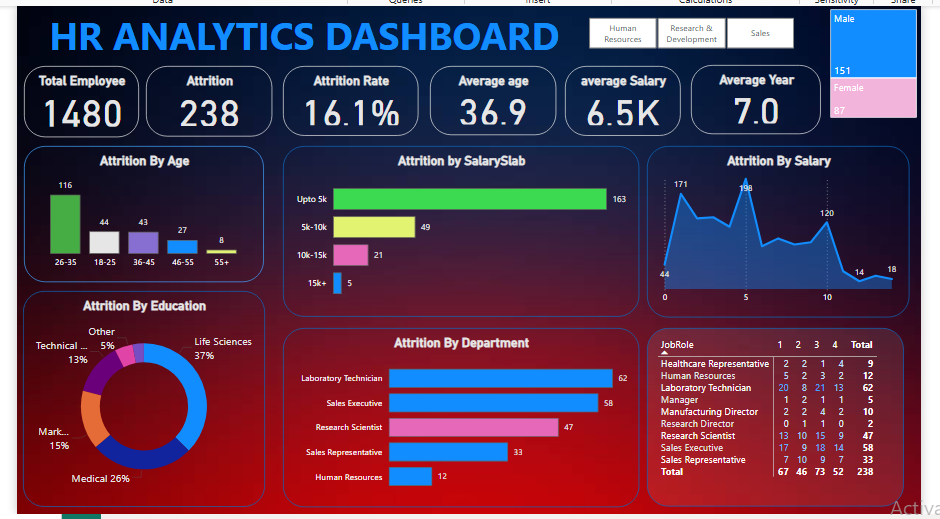

Layout of this report page (visuals, bound fields, positions):
{"tool":"powerbi","page":{"name":"Page 1","canvas":[1280,720],"ordinal":0},"visuals":[{"type":"card","title":"Total Employee","fields":{"Values":["Sum(Sheet1.EmployeeCount)"]},"box":[9.9,85,163,100.6],"z":0},{"type":"card","title":"Average age","fields":{"Values":["Avg(Sheet1.Age)"]},"box":[585.4,85,178.6,97.8],"z":1000},{"type":"card","title":"average Salary","fields":{"Values":["Avg(Sheet1.MonthlyIncome)"]},"box":[776.7,84.4,164.4,98.9],"z":2000},{"type":"card","title":"Attrition","fields":{"Values":["Sum(Sheet1.AttritionCount2)"]},"box":[183.3,84.4,178.9,100.4],"z":3000},{"type":"card","title":"Attrition Rate","fields":{"Values":["Sheet1.AttritionRate"]},"box":[376.7,84.4,192,98.9],"z":4000},{"type":"card","title":"Average Year","fields":{"Values":["Avg(Sheet1.YearsAtCompany)"]},"box":[955.3,83.6,184.3,97.8],"z":5000},{"type":"donutChart","title":"Attrition By Education","fields":{"Category":["Sheet1.EducationField"],"Y":["Sum(Sheet1.AttritionCount2)"]},"box":[8.5,403.9,343,306.1],"z":6000},{"type":"columnChart","title":"Attrition By Age","fields":{"Category":["Sheet1.AgeGroup"],"Y":["Sum(Sheet1.AttritionCount2)"]},"box":[9.9,198.4,340.2,192.8],"z":7000},{"type":"pivotTable","fields":{"Rows":["Sheet1.JobRole"],"Columns":["Sheet1.JobSatisfaction"],"Values":["Sum(Sheet1.AttritionCount2)"]},"box":[893.1,456.7,363.6,253.1],"z":8000},{"type":"slicer","title":"Attrition By Salary","fields":{"Values":["Sheet1.Department"]},"box":[785.2,9.9,340.2,56.7],"z":9000},{"type":"clusteredBarChart","title":"Attrition By Department","fields":{"Category":["Sheet1.JobRole"],"Y":["Sum(Sheet1.AttritionCount2)"]},"box":[377,456.4,504.6,253.7],"z":9001},{"type":"areaChart","title":"Attrition By Salary","fields":{"Category":["Sheet1.YearsAtCompany"],"Y":["CountNonNull(Sheet1.Attrition)"]},"box":[893.1,197.8,372.4,242.9],"z":9002},{"type":"treemap","title":"Attrition By Salary","fields":{"Group":["Sheet1.Gender"],"Values":["Sum(Sheet1.AttritionCount2)"]},"box":[1148,0,131.8,163],"z":9003},{"type":"textbox","box":[8.7,0,797.1,97.5],"z":9004},{"type":"barChart","title":"Attrition by SalarySlab","fields":{"Category":["Sheet1.SalarySlab"],"Y":["Sum(Sheet1.AttritionCount2)"]},"box":[377,198.4,504.6,242.4],"z":9005}]}

Visuals, with their boxes on the page's 1280x720 design canvas (x1, y1, x2, y2). These are canvas units, not pixel positions in the 940x519 screenshot, which may show the page scaled, cropped or inside an application window:
"Total Employee" card: [left=10, top=85, right=173, bottom=186]
"Average age" card: [left=585, top=85, right=764, bottom=183]
"average Salary" card: [left=777, top=84, right=941, bottom=183]
"Attrition" card: [left=183, top=84, right=362, bottom=185]
"Attrition Rate" card: [left=377, top=84, right=569, bottom=183]
"Average Year" card: [left=955, top=84, right=1140, bottom=181]
"Attrition By Education" donutChart: [left=8, top=404, right=352, bottom=710]
"Attrition By Age" columnChart: [left=10, top=198, right=350, bottom=391]
pivotTable - Sheet1.JobRole x Sheet1.JobSatisfaction: [left=893, top=457, right=1257, bottom=710]
"Attrition By Salary" slicer: [left=785, top=10, right=1125, bottom=67]
"Attrition By Department" clusteredBarChart: [left=377, top=456, right=882, bottom=710]
"Attrition By Salary" areaChart: [left=893, top=198, right=1266, bottom=441]
"Attrition By Salary" treemap: [left=1148, top=0, right=1280, bottom=163]
textbox: [left=9, top=0, right=806, bottom=98]
"Attrition by SalarySlab" barChart: [left=377, top=198, right=882, bottom=441]
